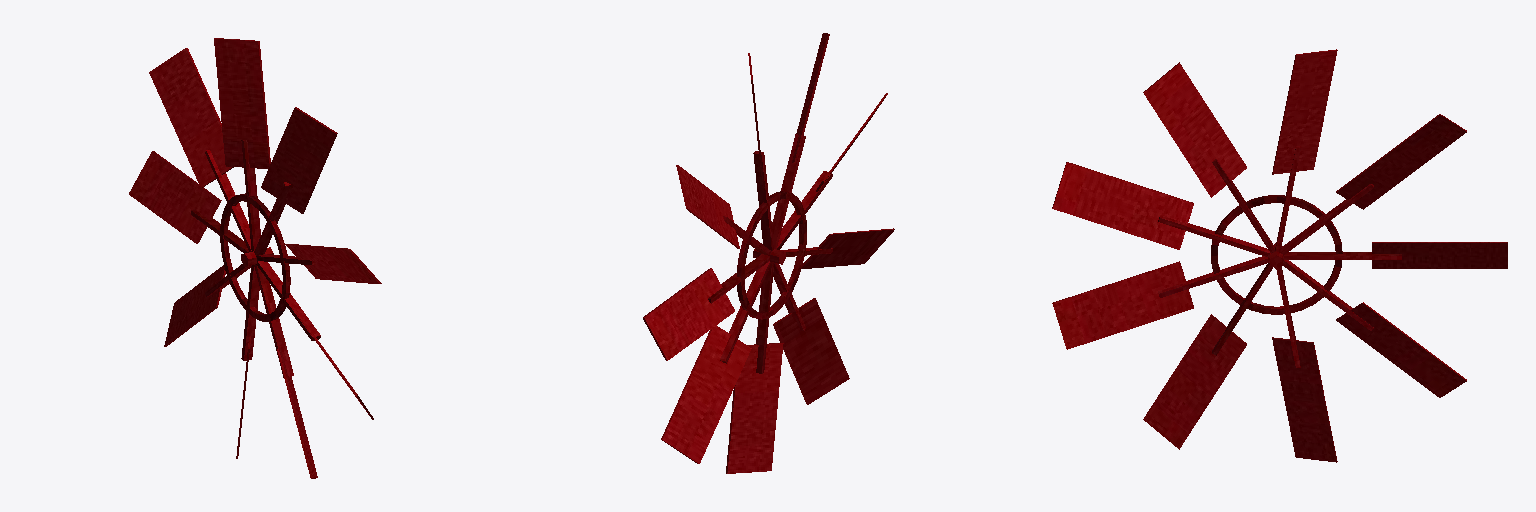
3 views of the same model, side by side, from view 1: azimuth 30°, elevation 25°; view 2: azimuth 150°, elevation 25°; view 3: azimuth 270°, elevation 25° (orthographic).
Visible parts, largest first — view 1: Fanblade_Plane.002; view 2: Fanblade_Plane.002; view 3: Fanblade_Plane.002.
Boxes of the visible parts, x1,y1,x2,y2 form: Fanblade_Plane.002: [129, 38, 381, 478]; Fanblade_Plane.002: [643, 33, 894, 473]; Fanblade_Plane.002: [1052, 49, 1507, 462].
Size of the model in its own units: 0.211 by 3.05 by 3.05.
1 materials, 1 textured.